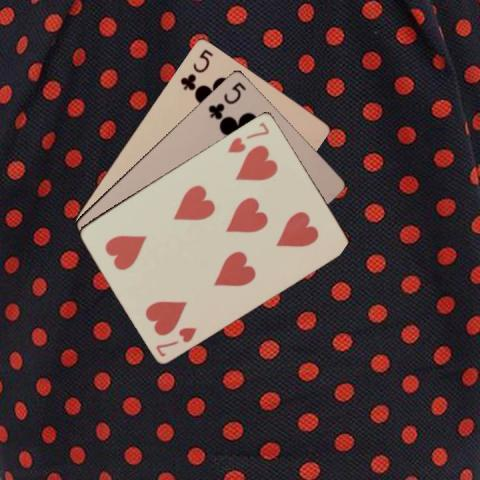5c: (205, 78, 248, 120), (176, 46, 214, 91)
7h: (224, 119, 271, 154), (152, 323, 198, 358)
